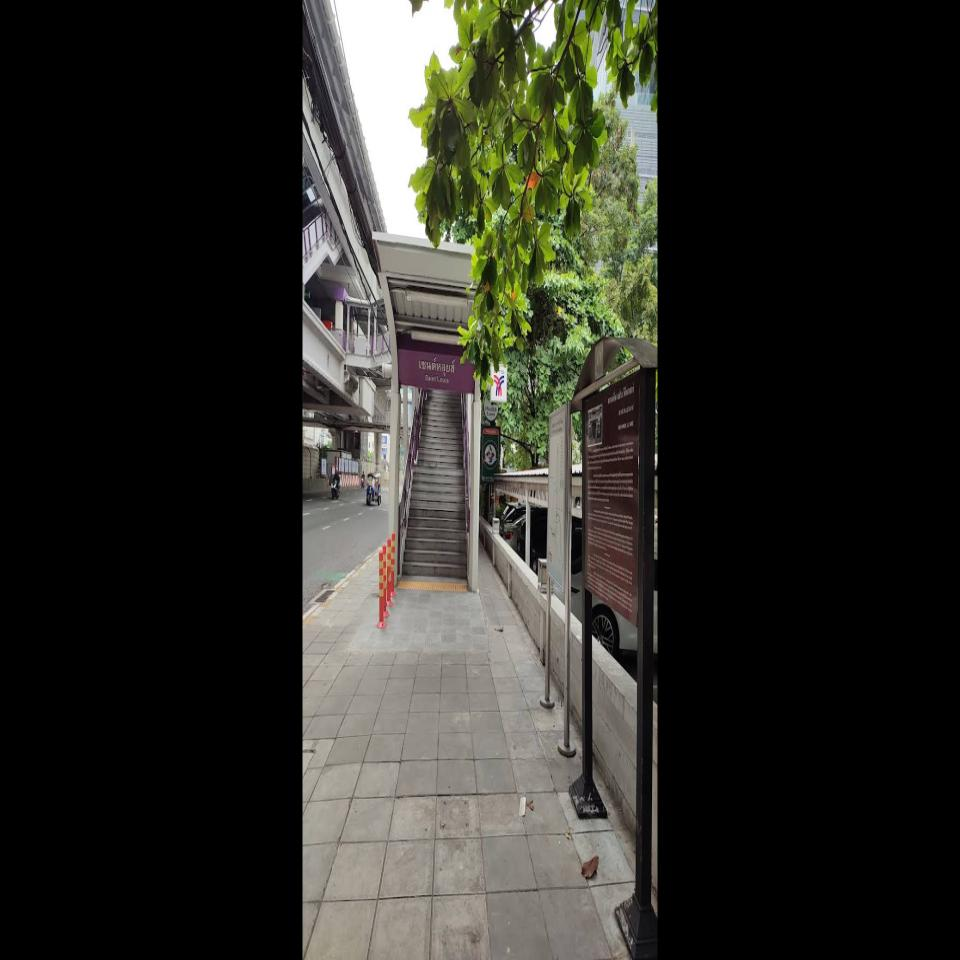signage: (398, 348, 507, 403), (397, 348, 475, 394)
